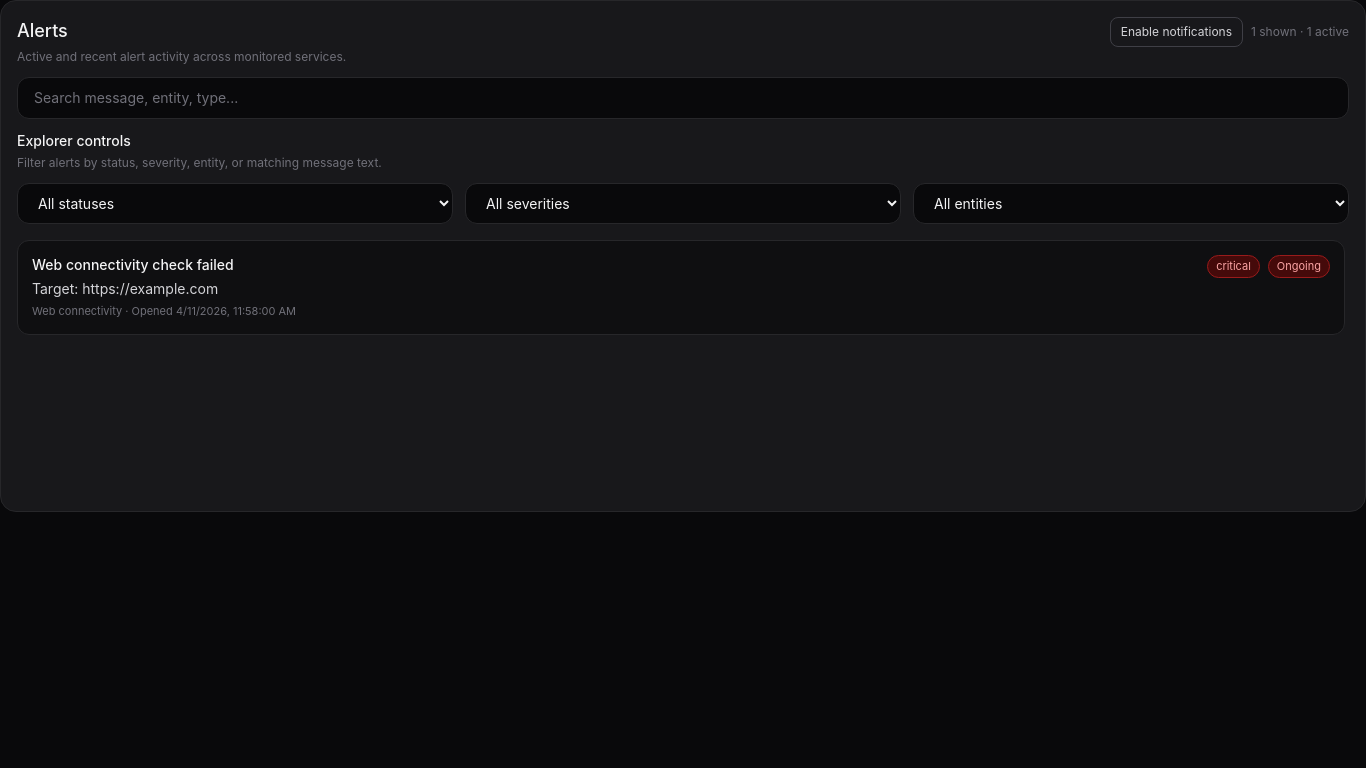
Test: AlertsPanel › opens detail drawer when an alert is clicked
The image size is (1366, 768).
Click the button "Web connectivity check failed".
click(133, 264)  # box [17,240,1345,334]
(page scrolled)
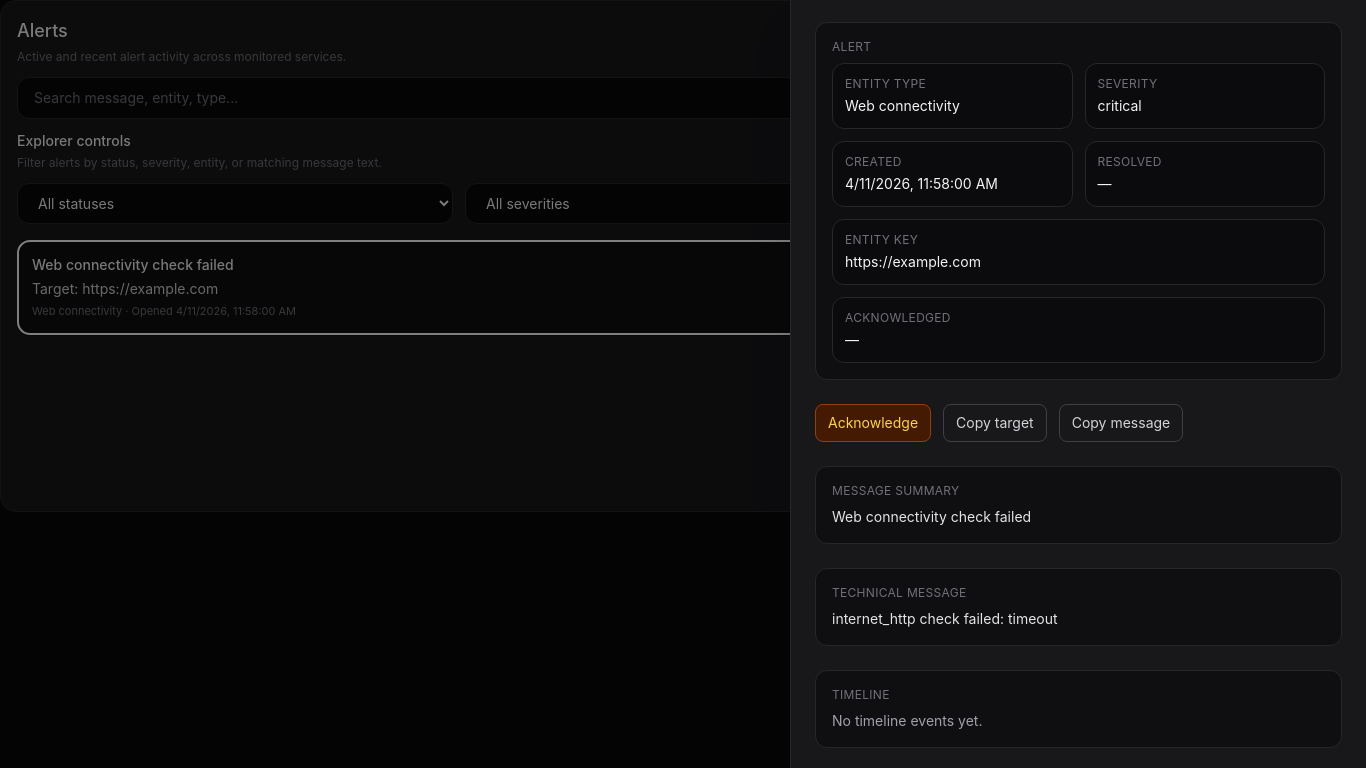
Now the text "Technical message" is shown, box [832,585,966,600]
Now the text "internet_http check failed: timeout" is shown, box [832,610,1058,627]
